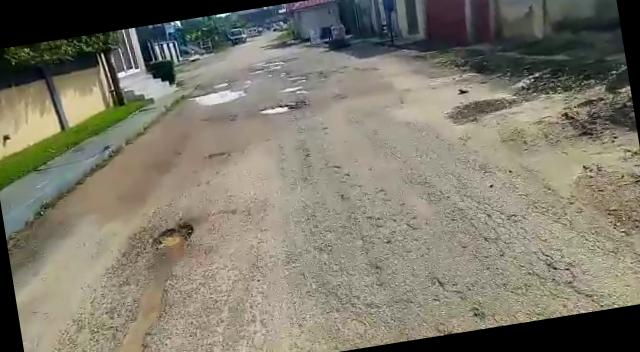pothole: (152, 222, 192, 256), (189, 84, 244, 106), (255, 101, 299, 118), (280, 84, 304, 92)
